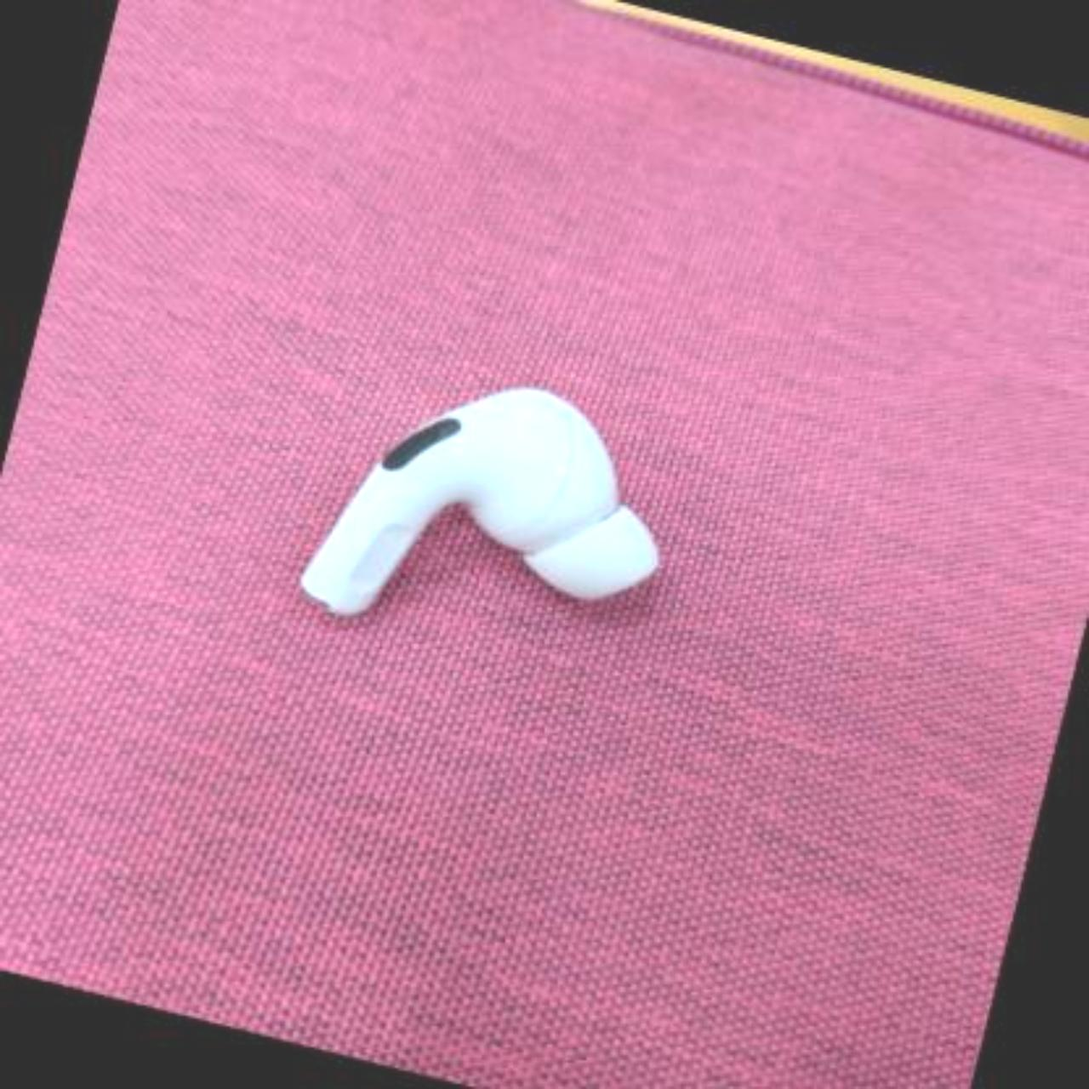Airpods_Units: (245, 304, 713, 725)
